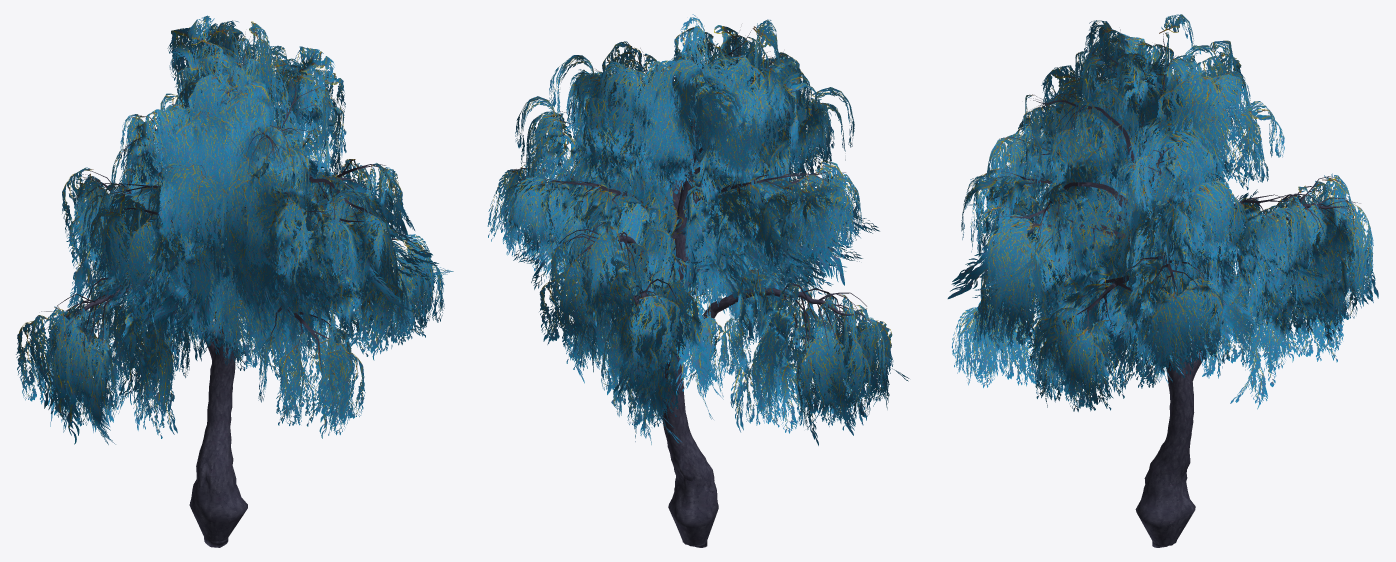
The picture shows the model from 3 angles, left to right: view 1: azimuth 30°, elevation 25°; view 2: azimuth 150°, elevation 25°; view 3: azimuth 270°, elevation 25°; orthographic projection. The views are drawn at different scales.
Visible parts, largest first — view 1: SM_Willow_02_LOD0; view 2: SM_Willow_02_LOD0; view 3: SM_Willow_02_LOD0.
Part boxes in pixels (bbox=[...]): SM_Willow_02_LOD0: bbox=[16, 15, 453, 547]; SM_Willow_02_LOD0: bbox=[487, 14, 909, 547]; SM_Willow_02_LOD0: bbox=[947, 14, 1378, 547].
Size of the model in its own units: 17.62 by 22.83 by 17.02.
2 materials, 2 textured.
